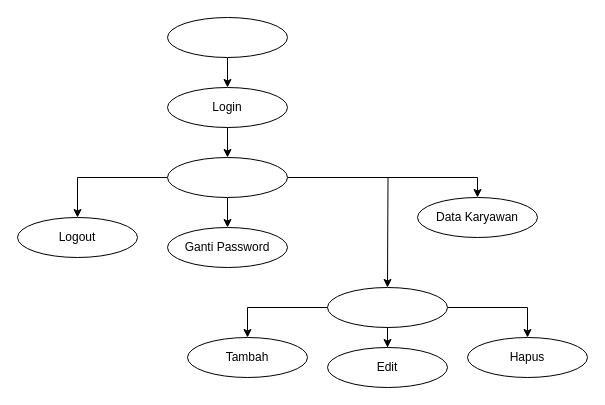
This 605x405 diagram has some shape labels left out. The centre of each missing label's shape, as x and y in pixels:
"Dashboard" belongs at (x=227, y=177).
"Manajemen Karyawan" belongs at (x=387, y=307).
"Register" belongs at (x=227, y=37).
